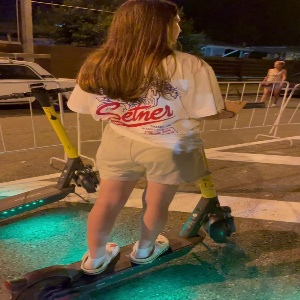human on a scooter: (1, 1, 266, 300)
